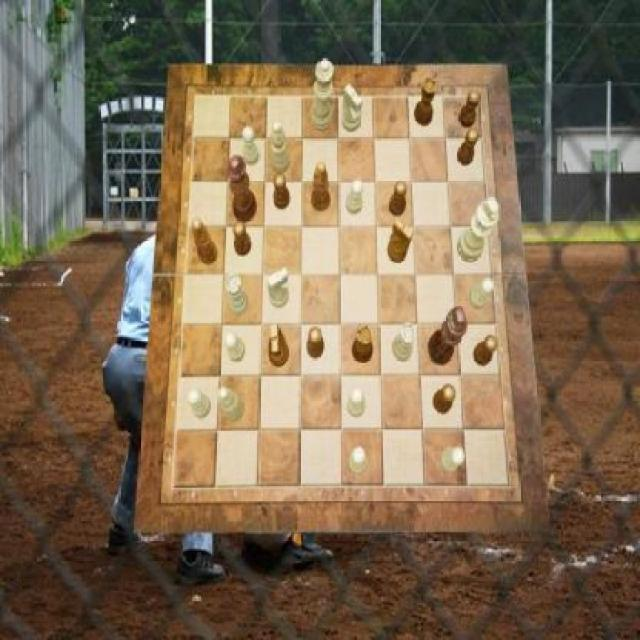bishop: (192, 218, 218, 264), (311, 163, 331, 212)
black-bishop: (428, 308, 468, 366)
black-king: (388, 218, 414, 264), (268, 325, 288, 367)
black-knight: (458, 91, 481, 129), (457, 128, 479, 166), (474, 335, 498, 368), (232, 222, 252, 258), (434, 383, 457, 414), (389, 182, 407, 218), (274, 174, 291, 210), (308, 328, 325, 360)
black-pawn: (226, 157, 257, 225)
black-queen: (414, 77, 437, 126), (352, 326, 375, 365)
black-rook: (271, 121, 291, 174), (218, 388, 244, 422)
white-bishop: (457, 197, 500, 262)
white-king: (343, 85, 363, 132), (266, 268, 289, 308)
white-knight: (469, 278, 494, 311), (188, 388, 212, 418), (243, 126, 260, 166), (440, 448, 465, 473), (226, 331, 246, 362), (346, 179, 364, 213), (348, 388, 365, 418), (349, 448, 367, 475)
white-pawn: (310, 60, 334, 132)
white-queen: (225, 274, 248, 316), (394, 323, 417, 362)
